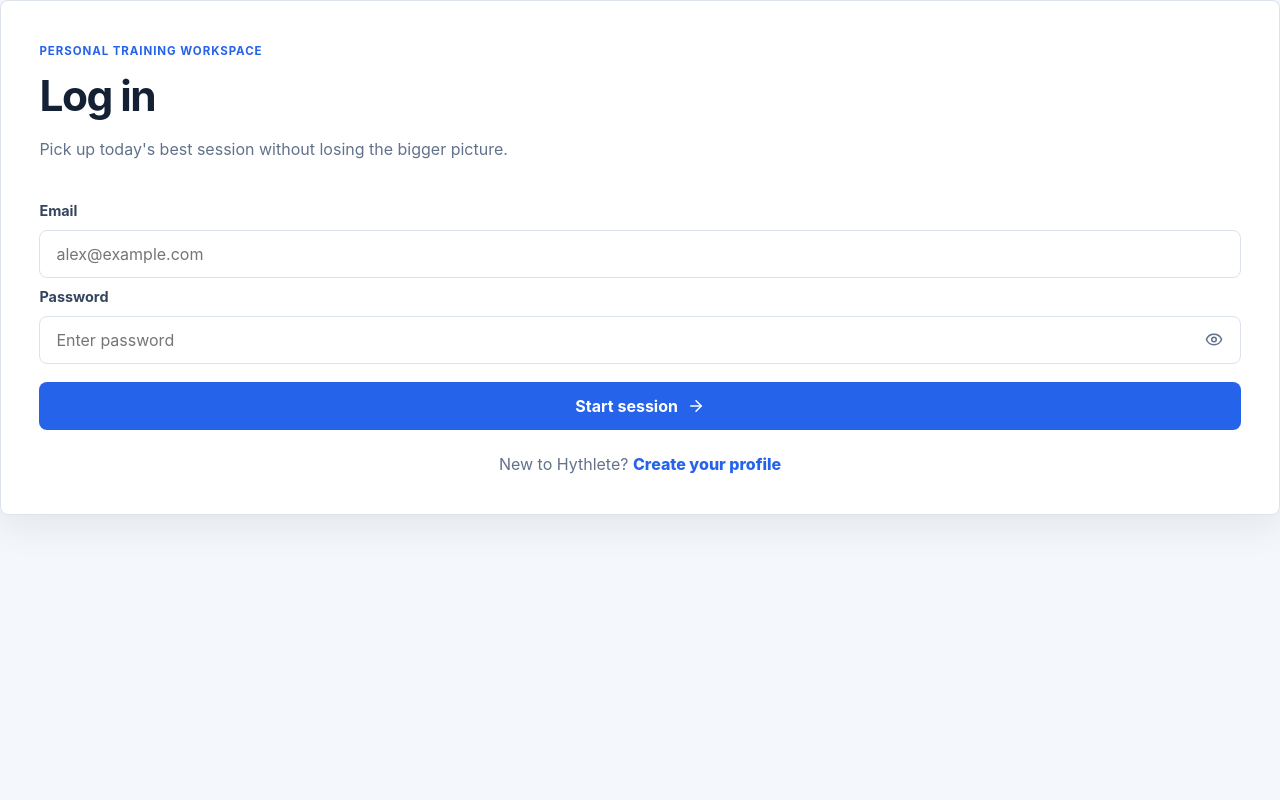
Scenario: LoginPanel › switches registration in place and shows only real auth actions
The width and height of the screenshot is (1280, 800).
Expected: the heading "Log in" is shown, [39,70,155,121]
Step 1. Click the button "Create your profile" → point(707, 464), box [633,452,781,476]
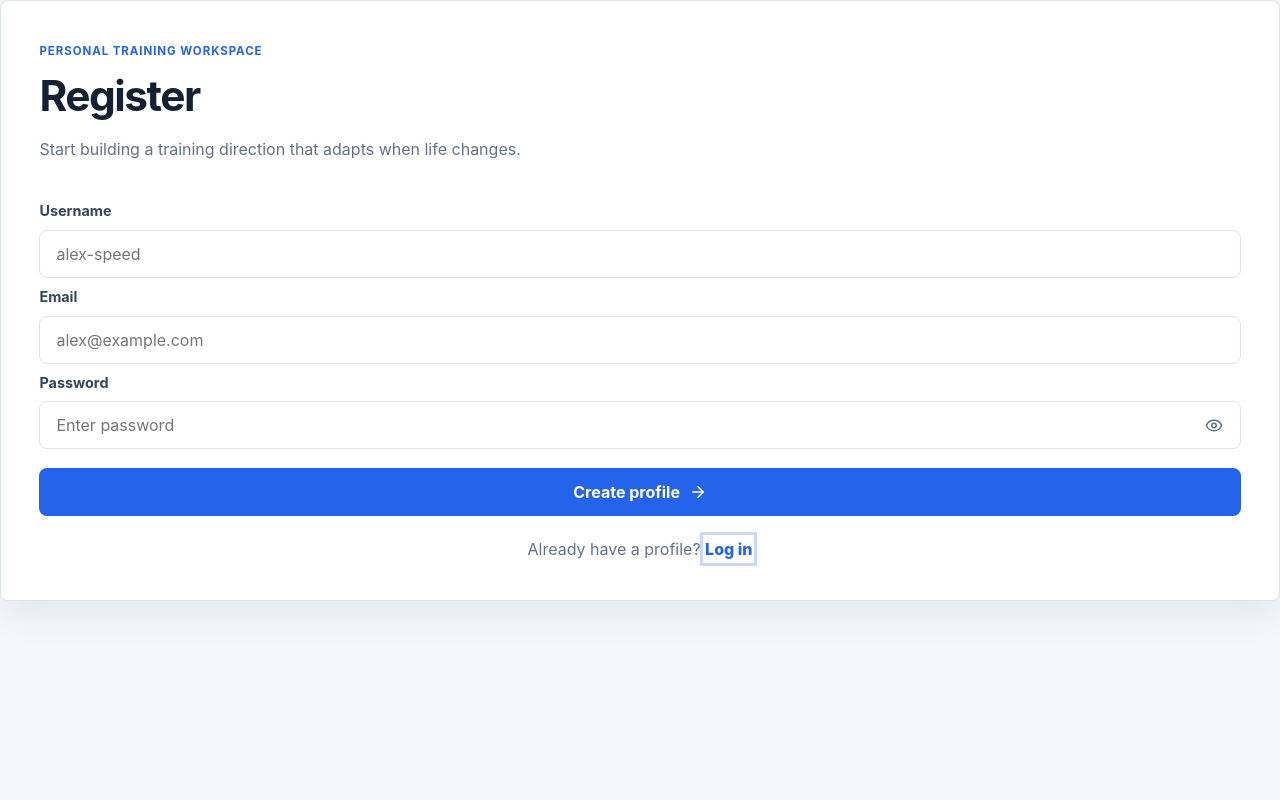
Now the heading "Register" is shown, box [39,70,200,121]
Now the field labelled "Username" is shown, box [39,230,1241,278]
